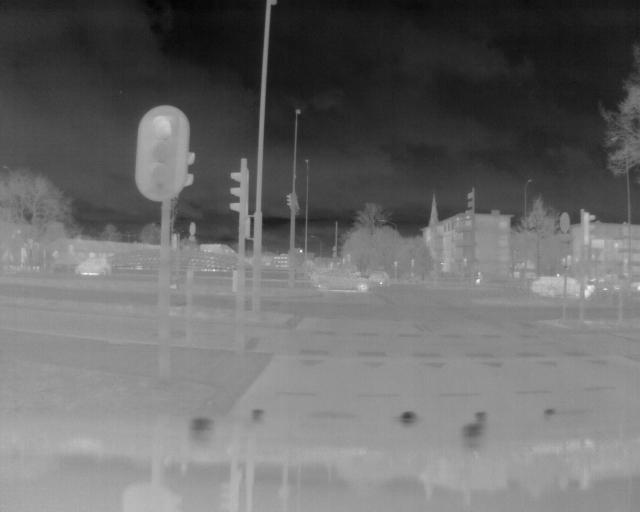car: (312, 262, 375, 292), (530, 274, 581, 300), (76, 256, 111, 276)
